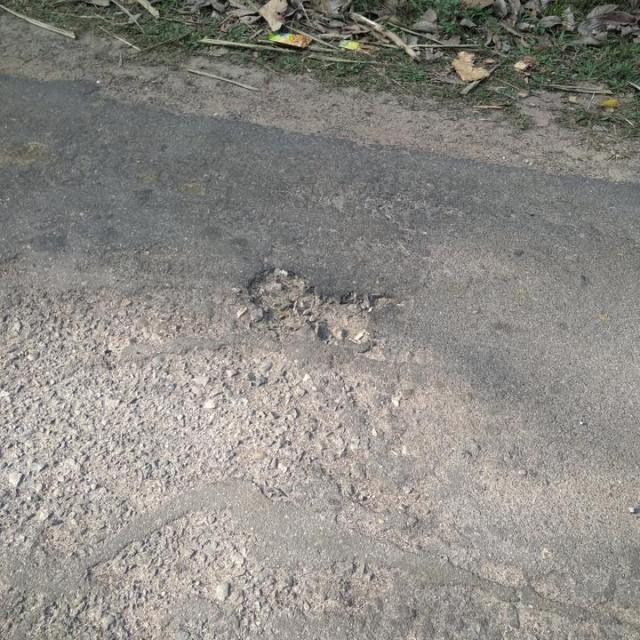Pothole: (244, 263, 389, 348)
